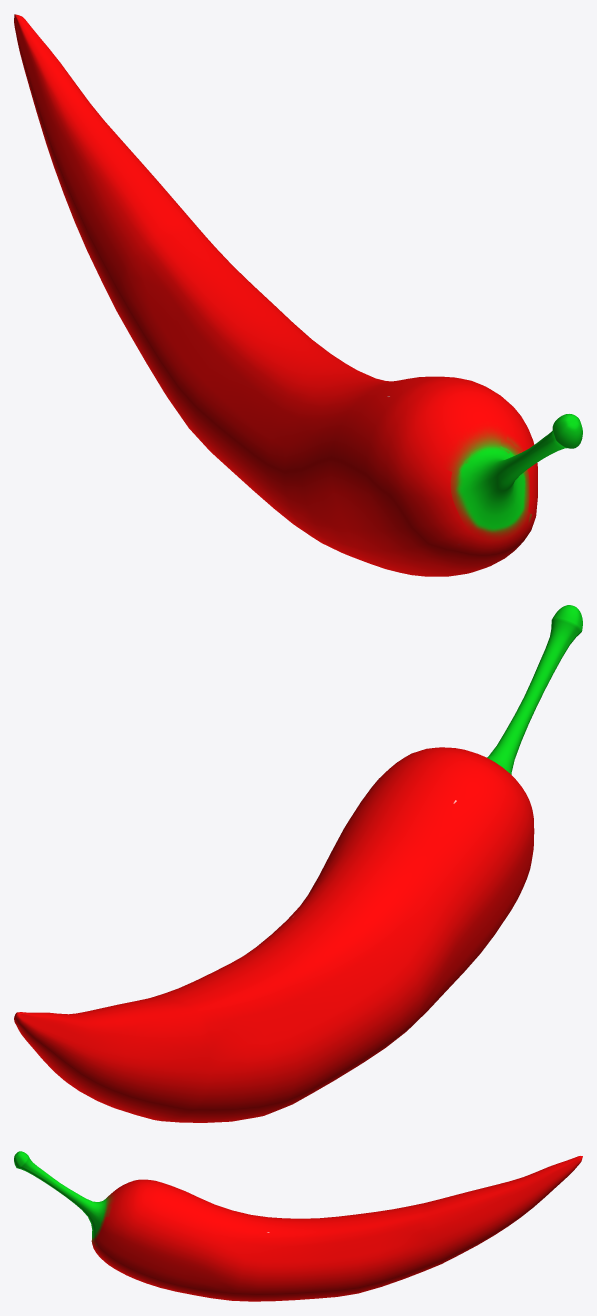
File: Chili.fbx
3 renders of one model, top to bottom at view 1: azimuth 30°, elevation 25°; view 2: azimuth 150°, elevation 25°; view 3: azimuth 270°, elevation 25°, orthographic. The views are drawn at different scales.
Visible parts, largest first — view 1: pCylinder1; view 2: pCylinder1; view 3: pCylinder1.
Boxes of the visible parts, left/top/right/bottom form: pCylinder1: left=14, top=14, right=582, bottom=576; pCylinder1: left=14, top=605, right=582, bottom=1122; pCylinder1: left=14, top=1151, right=582, bottom=1301.
Size of the model in its own units: 4.38 by 7.91 by 28.08.
